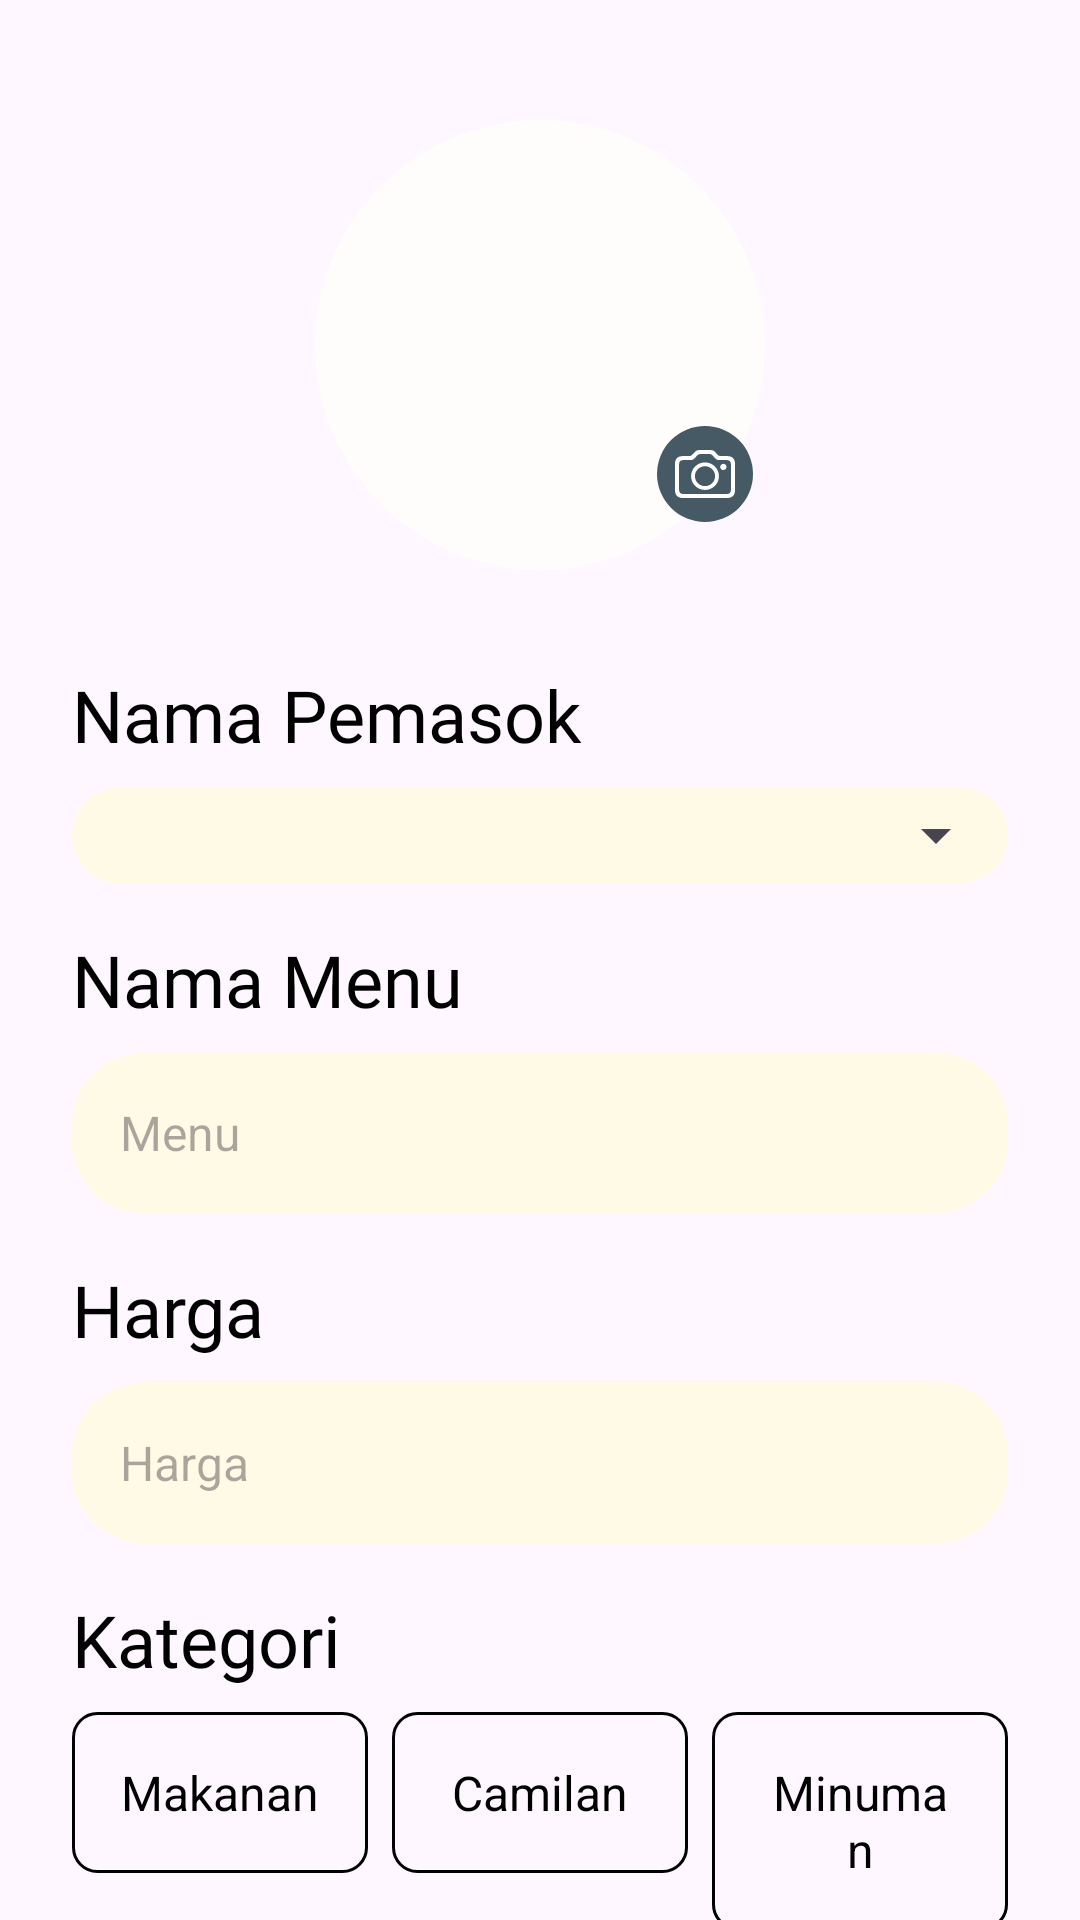

Icon click points for this 1080*1920 phone screenshot, format (x=x, y=y):
camera: (x=705, y=474)
